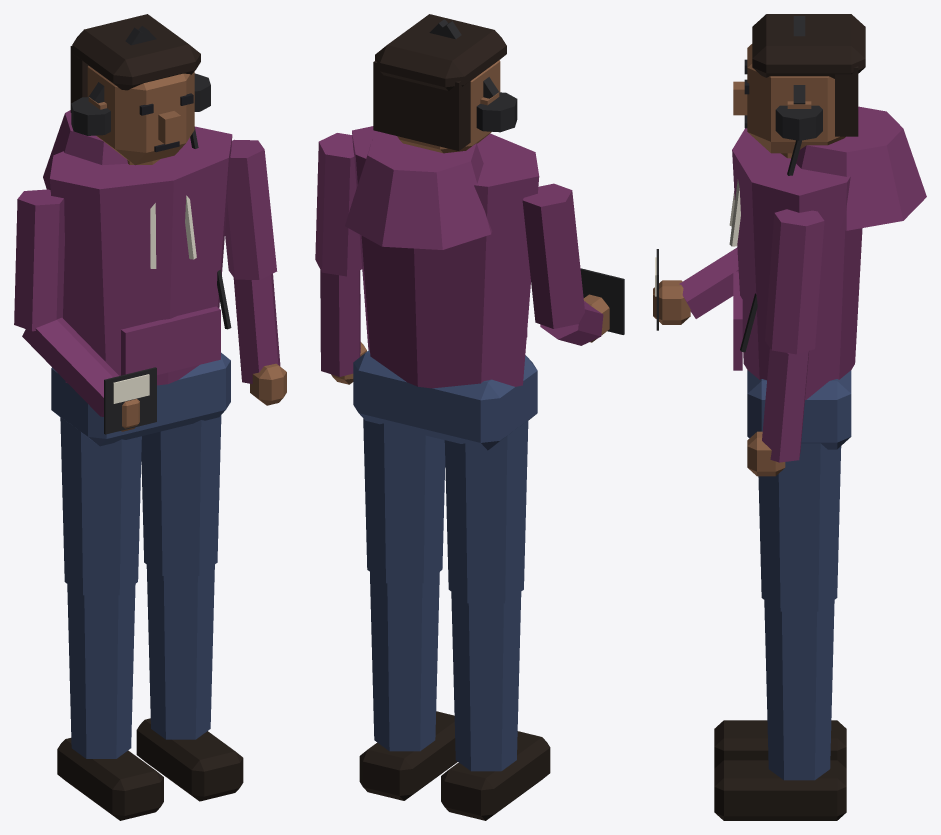
Rendered from person.sysop.glb.
3 renders of one model, left to right at view 1: azimuth 30°, elevation 25°; view 2: azimuth 150°, elevation 25°; view 3: azimuth 270°, elevation 25°, orthographic. The views are drawn at different scales.
Visible parts, largest first — view 1: torso, thigh-1, thigh1, shin-1, shin1, upper-1, hips, hair, upper1, head, shoe1, shoe-1 (+13 smaller); view 2: torso, thigh-1, hood, thigh1, shin-1, shin1, hips, upper-1, hair, hair-back, upper1, shoe-1 (+6 smaller); view 3: torso, thigh1, shin1, hood, upper1, shoe1, hair, head, fore1, hips, shoe-1, fore-1 (+6 smaller).
Boxes of the visible parts, box(x1,y1,x2,y2) form: torso: box(49, 126, 232, 385); thigh-1: box(60, 417, 141, 595); thigh1: box(141, 415, 221, 575); shin-1: box(67, 584, 135, 758); shin1: box(146, 564, 214, 739); upper-1: box(14, 189, 64, 331); hips: box(51, 352, 230, 446); hair: box(72, 14, 200, 90); upper1: box(225, 139, 277, 279); head: box(87, 65, 194, 165); shoe1: box(136, 718, 243, 801); shoe-1: box(57, 738, 163, 820); torso: box(352, 126, 539, 388); thigh-1: box(444, 420, 528, 603); hood: box(345, 133, 492, 249); thigh1: box(363, 418, 445, 583); shin-1: box(451, 592, 521, 771); shin1: box(370, 572, 439, 751); hips: box(353, 350, 537, 450); upper-1: box(522, 183, 584, 328); hair: box(375, 14, 506, 90); hair-back: box(373, 60, 470, 150); upper1: box(315, 133, 362, 276); shoe-1: box(441, 731, 550, 820); torso: box(732, 128, 862, 399); thigh1: box(758, 443, 841, 611); shin1: box(764, 600, 834, 780); hood: box(796, 106, 926, 230); upper1: box(765, 209, 824, 354); shoe1: box(714, 760, 846, 820); hair: box(752, 14, 865, 78); head: box(747, 44, 845, 153); fore1: box(762, 348, 809, 462); hips: box(747, 370, 851, 449); shoe-1: box(714, 720, 846, 768); fore-1: box(679, 247, 738, 318).
Bounding box in the file's own units: 0.6504 × 1.81 × 0.58.
